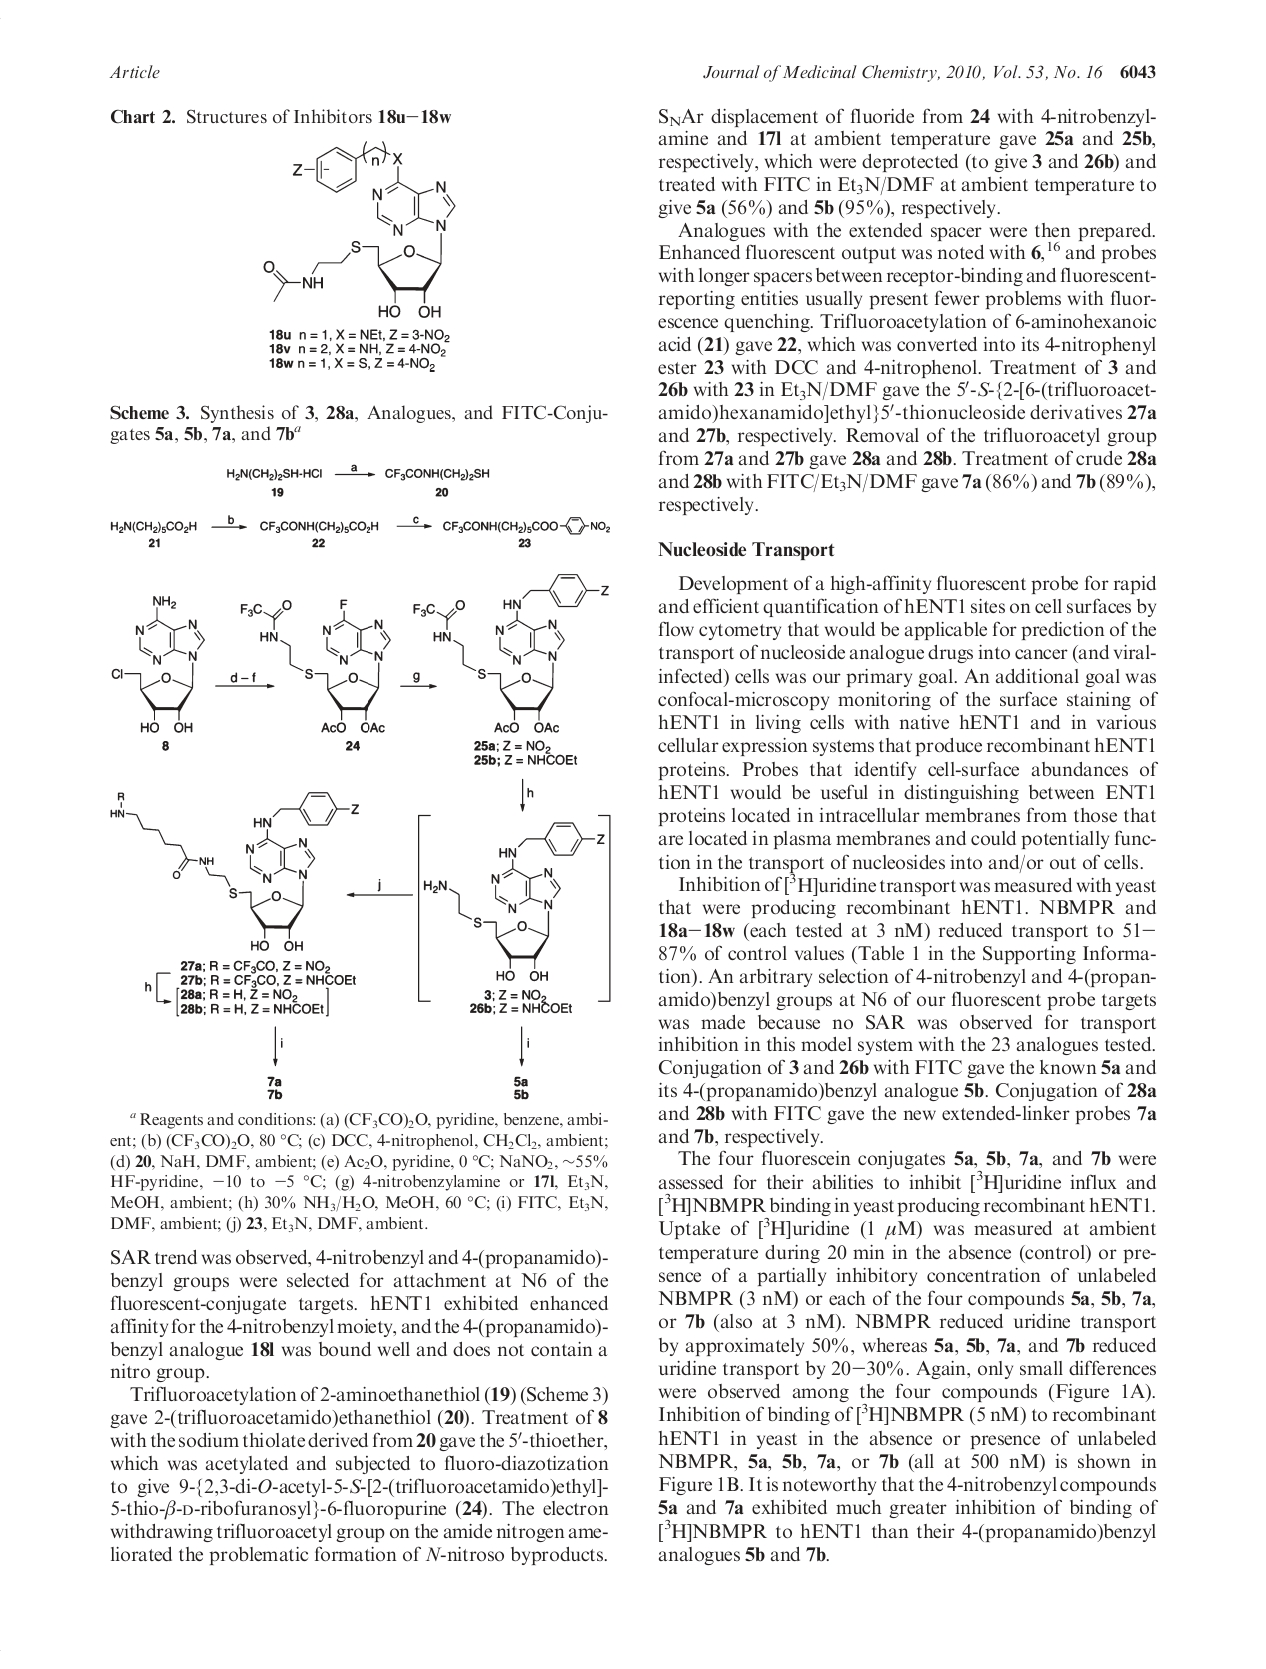exist_molecular: (108, 787, 359, 951), (262, 136, 457, 321), (414, 571, 612, 735), (423, 821, 606, 983), (235, 590, 391, 738), (110, 594, 206, 733)
